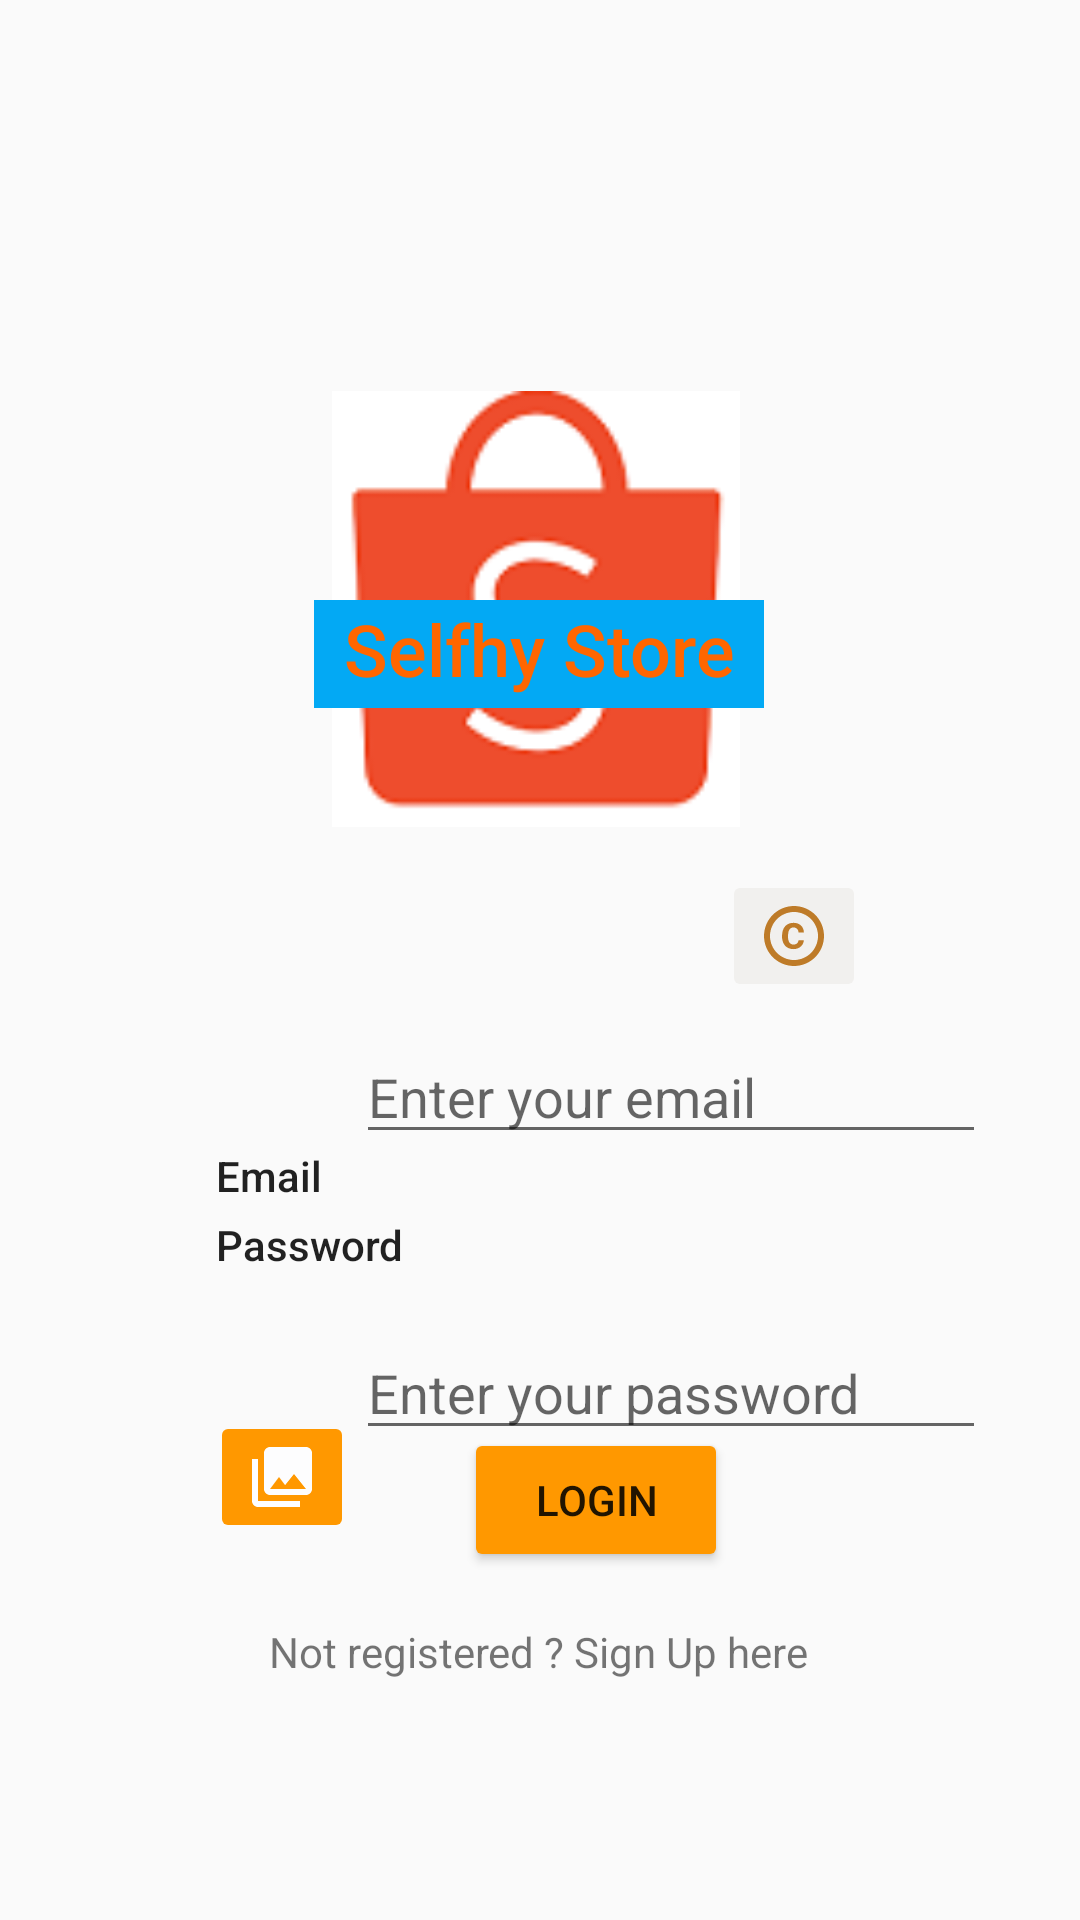

Locate icon controls on the screen. Image size 1080px x 1920px, boxes as (x1, y1, x2, y2).
copyright: (734, 888, 854, 984)
library: (222, 1429, 342, 1525)
